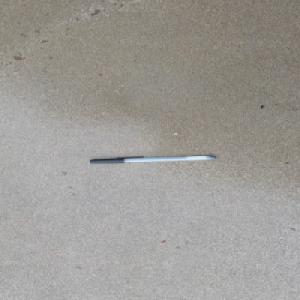Pen: (88, 155, 217, 164)
